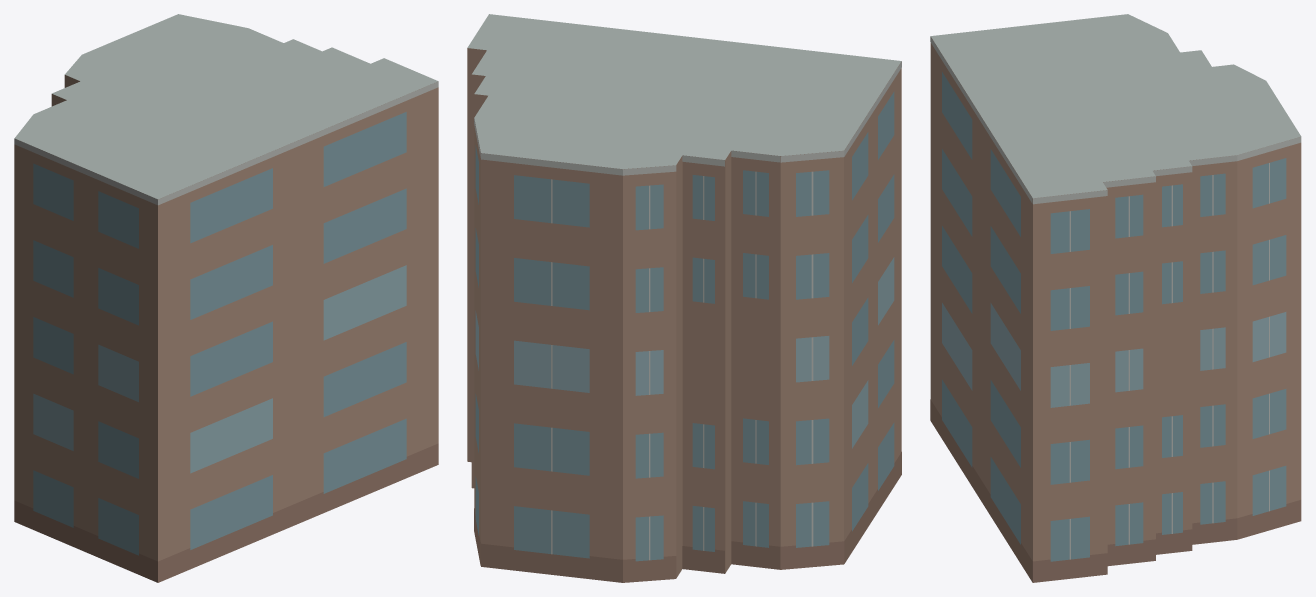
File: survey-upis-33029438.glb
3 renders of one model, left to right at view 1: azimuth 30°, elevation 25°; view 2: azimuth 150°, elevation 25°; view 3: azimuth 270°, elevation 25°, orthographic. The views are drawn at different scales.
Visible parts, largest first — view 1: survey-upis-33029438.tmp; view 2: survey-upis-33029438.tmp; view 3: survey-upis-33029438.tmp.
Part boxes in pixels (x1,y1,x2,y2): survey-upis-33029438.tmp: [14, 14, 438, 582]; survey-upis-33029438.tmp: [467, 14, 901, 582]; survey-upis-33029438.tmp: [930, 14, 1301, 582].
Bounding box in the file's own units: 16.04 × 15.6 × 13.64.
